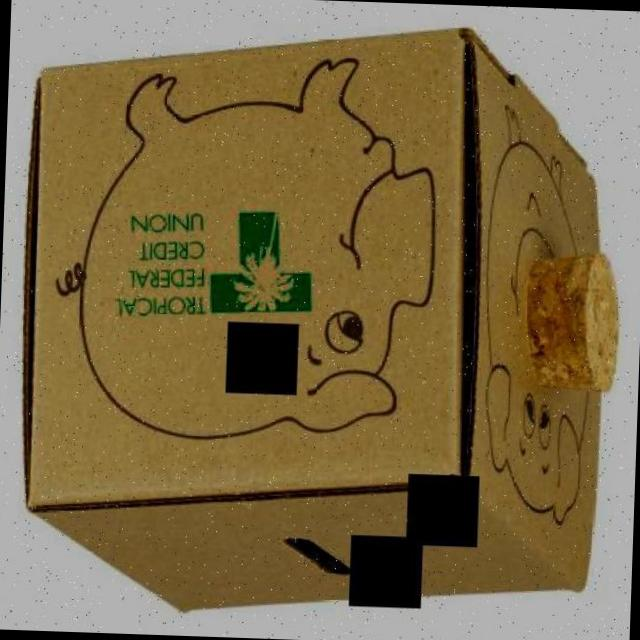box: (4, 12, 634, 631)
